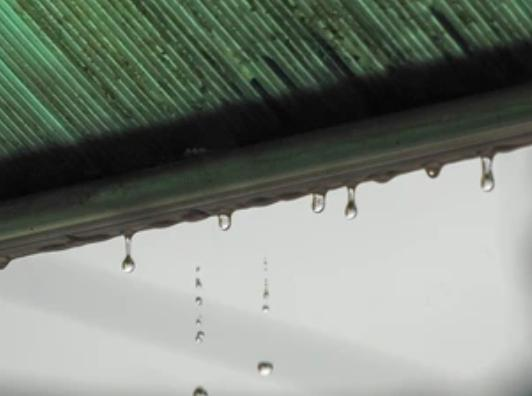water drop: (121, 229, 137, 272), (480, 151, 494, 191), (344, 181, 358, 218), (310, 190, 326, 213), (216, 209, 231, 230), (423, 161, 442, 177), (257, 361, 273, 374), (193, 386, 209, 396), (0, 256, 11, 270), (262, 279, 269, 299), (195, 331, 205, 344), (193, 278, 203, 288), (195, 297, 204, 306), (263, 303, 269, 314), (195, 319, 201, 324)
